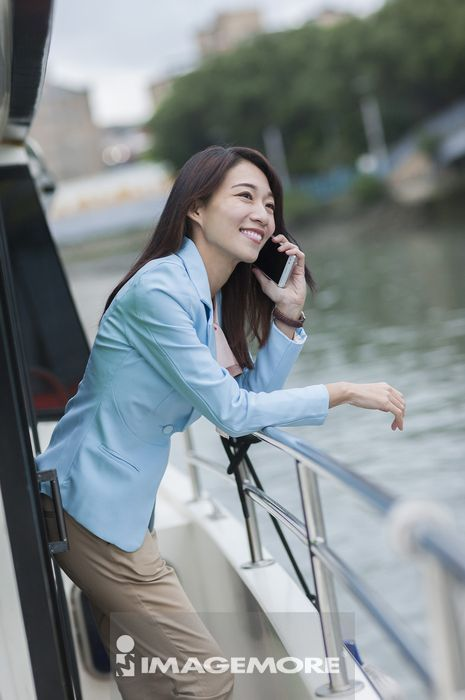phone: (257, 236, 299, 288)
talk: (224, 178, 308, 311)
